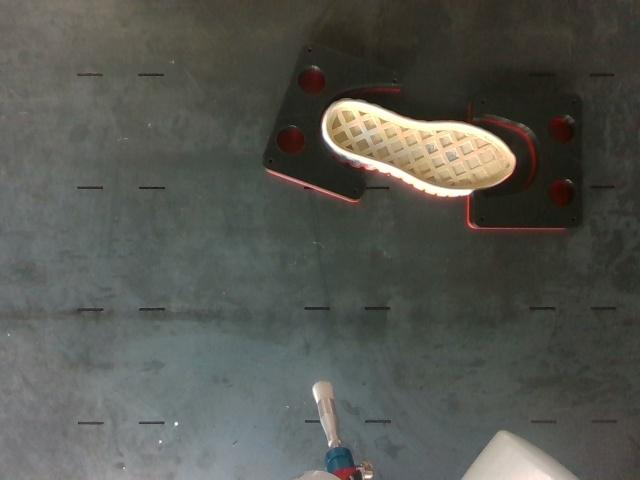shoes: (326, 102, 514, 189)
